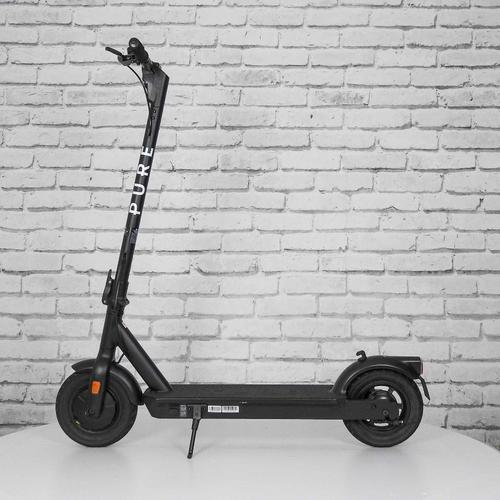scooter: (52, 35, 433, 459)
